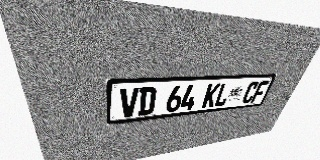4: (179, 84, 199, 111)
6: (165, 85, 185, 113)
C: (241, 81, 260, 104)
D: (137, 86, 157, 116)
F: (250, 80, 269, 103)
K: (201, 83, 221, 108)
L: (213, 82, 233, 107)
V: (120, 87, 139, 118)
